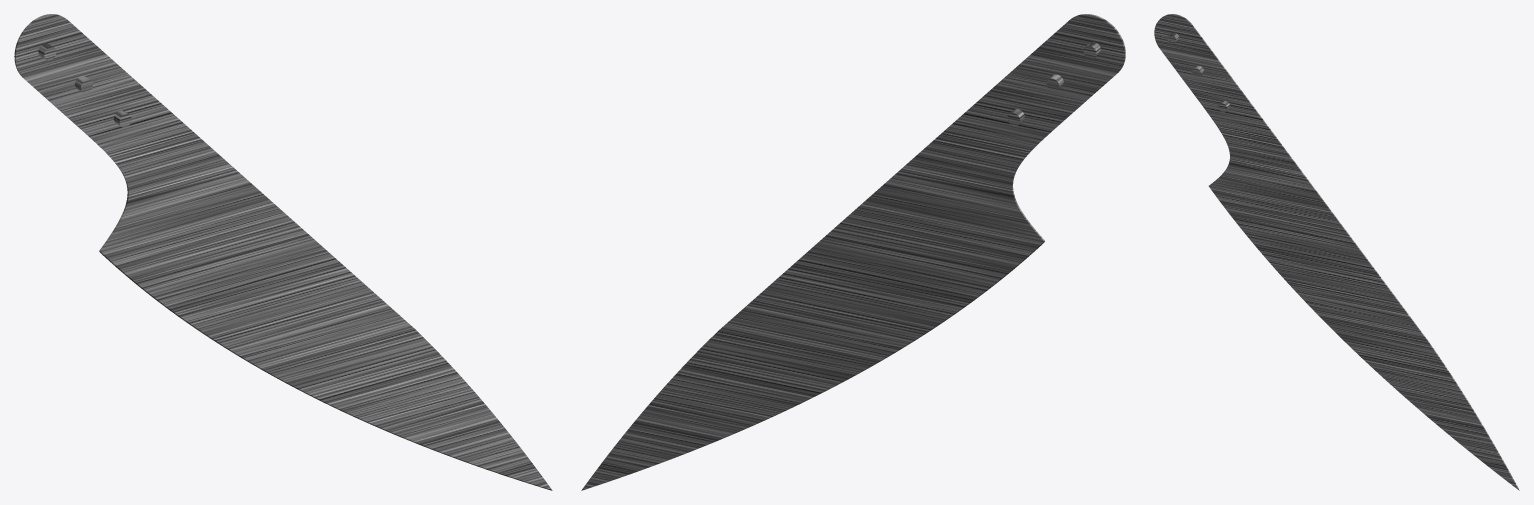
The model's file is cuchillo1.dae.
3 renders of one model, left to right at view 1: azimuth 30°, elevation 25°; view 2: azimuth 150°, elevation 25°; view 3: azimuth 330°, elevation 25°, orthographic. The views are drawn at different scales.
Parts seen in each view (by area): view 1: node; view 2: node; view 3: node.
Part boxes in pixels (<box>): node: <box>14,14,552,490</box>; node: <box>581,14,1125,490</box>; node: <box>1154,14,1519,490</box>.
Size of the model in its own units: 362 by 384 by 17.45.
Materials: 1 (1 with a texture image).
